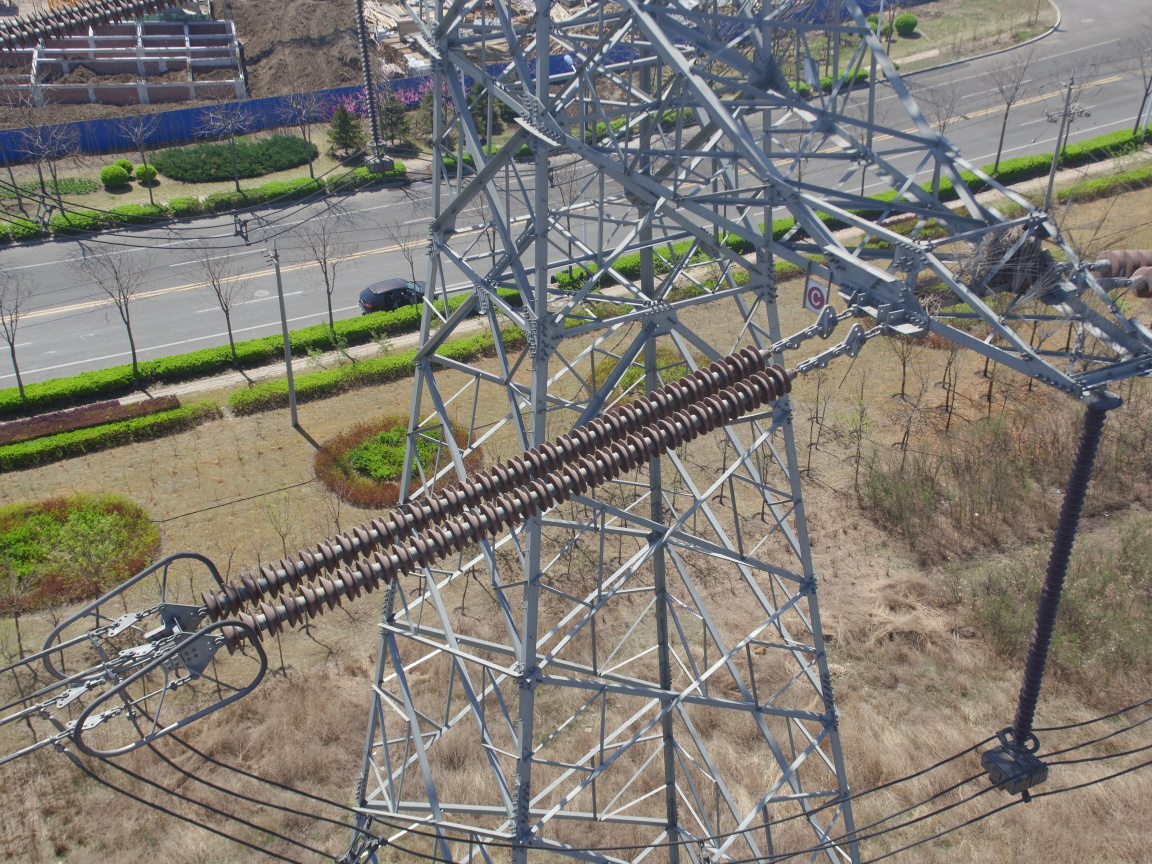insulator: (194, 336, 832, 660), (1, 1, 201, 55)
